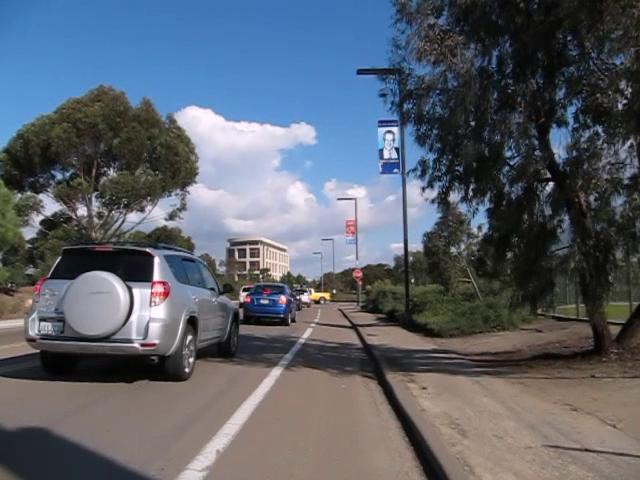stop: (352, 268, 363, 281)
